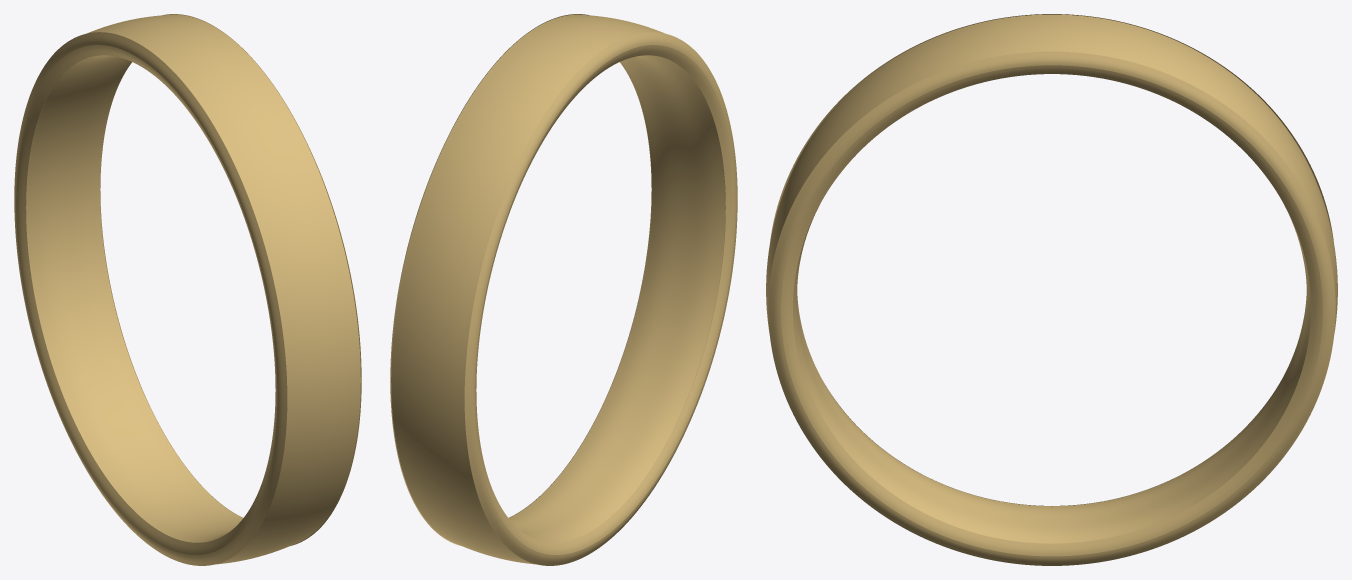
3 renders of one model, left to right at view 1: azimuth 30°, elevation 25°; view 2: azimuth 150°, elevation 25°; view 3: azimuth 270°, elevation 25°, orthographic. The views are drawn at different scales.
Parts seen in each view (by area): view 1: P4-Outer, P4-Inner, P4-Sides; view 2: P4-Outer, P4-Inner, P4-Sides; view 3: P4-Sides, P4-Outer, P4-Inner.
Part boxes in pixels (x1=…): P4-Outer: x1=26, y1=14, x2=360, y2=564; P4-Inner: x1=26, y1=55, x2=242, y2=542; P4-Sides: x1=14, y1=14, x2=361, y2=565; P4-Outer: x1=391, y1=14, x2=725, y2=564; P4-Inner: x1=509, y1=55, x2=725, y2=542; P4-Sides: x1=390, y1=14, x2=737, y2=565; P4-Sides: x1=768, y1=14, x2=1335, y2=565; P4-Outer: x1=766, y1=14, x2=1337, y2=543; P4-Inner: x1=793, y1=208, x2=1310, y2=543.
Size of the model in its own units: 0.3993 by 2.32 by 2.31.
